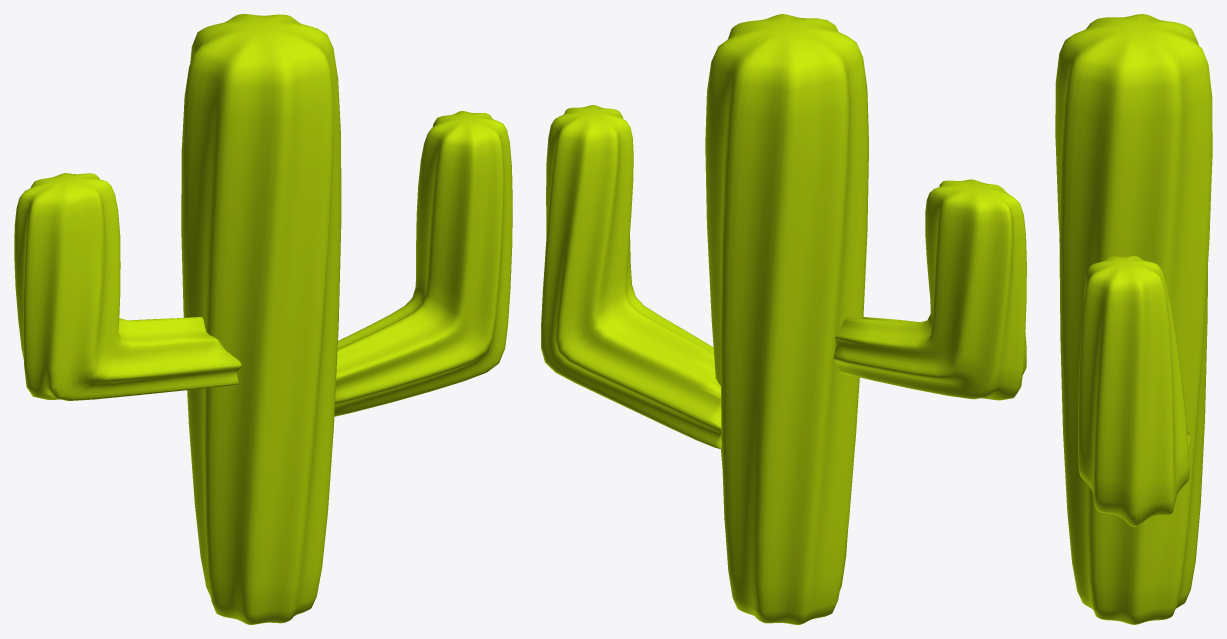
Rendered from cactus.glb.
3 views of the same model, side by side, from view 1: azimuth 30°, elevation 25°; view 2: azimuth 150°, elevation 25°; view 3: azimuth 270°, elevation 25° (orthographic).
Parts seen in each view (by area): view 1: Circle.002, Circle.001, Circle.003; view 2: Circle.002, Circle.001, Circle.003; view 3: Circle.002, Circle.001.
Boxes of the visible parts, x1,y1,x2,y2 form: Circle.002: (181,14,341,624); Circle.001: (334,111,512,416); Circle.003: (14,173,241,400); Circle.002: (705,14,868,624); Circle.001: (541,105,721,449); Circle.003: (833,179,1026,400); Circle.002: (1055,14,1212,624); Circle.001: (1078,256,1190,526).
Bounding box in the file's own units: 10.21 × 11.97 × 2.92.
